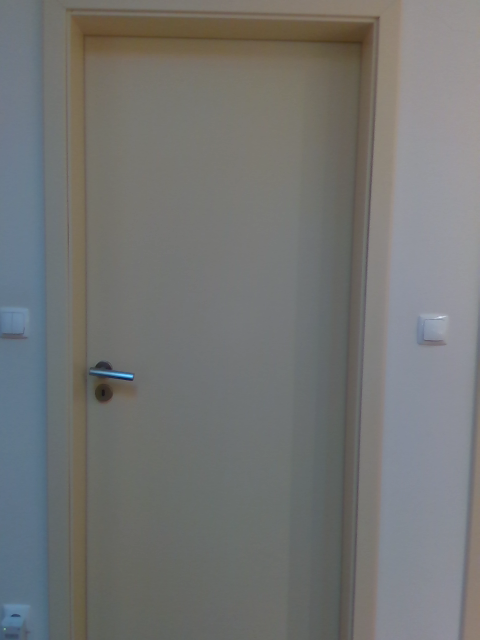closed: (40, 1, 403, 639)
